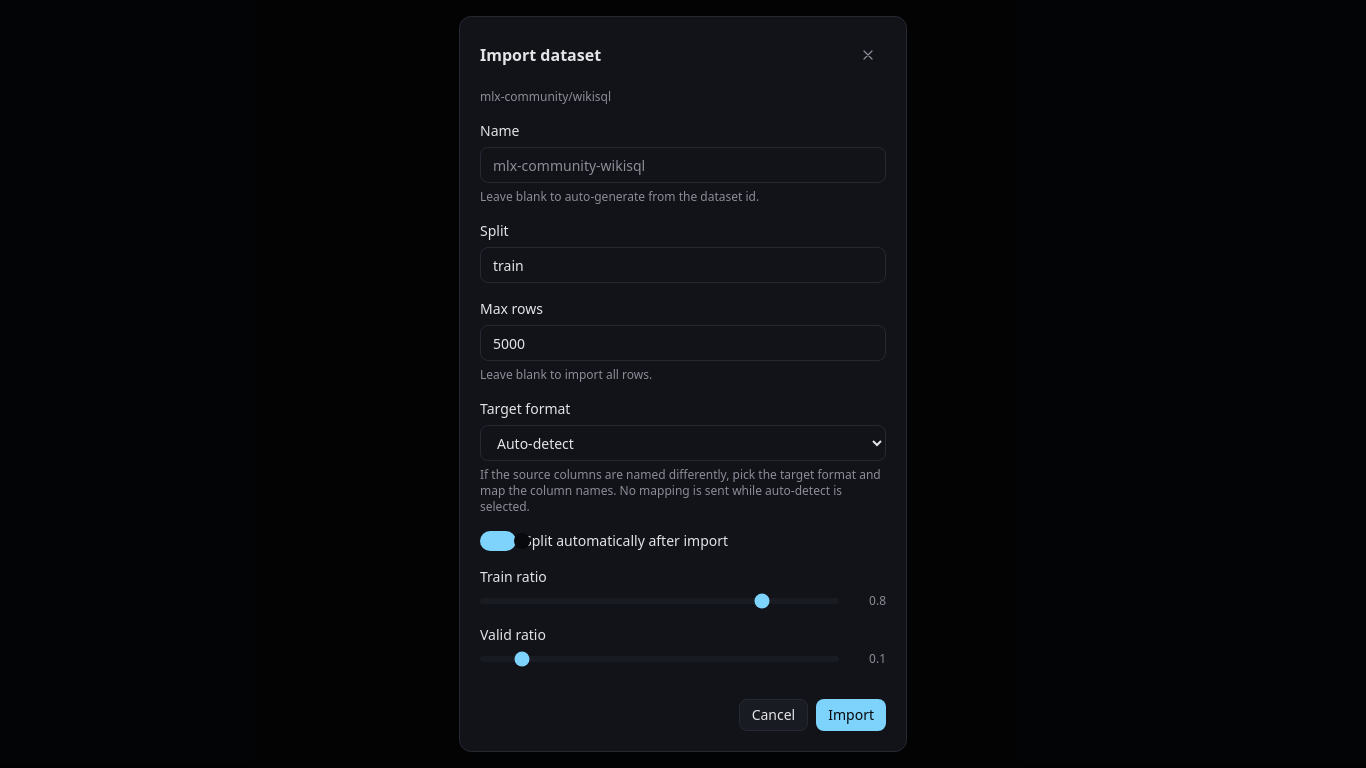
Test: ImportDatasetDialog column mapping › disables submit while a required column for the selected format is empty
Select "GRPO" in the dropdown labelled "Target format" at point(683, 443), box [480,425,886,461]
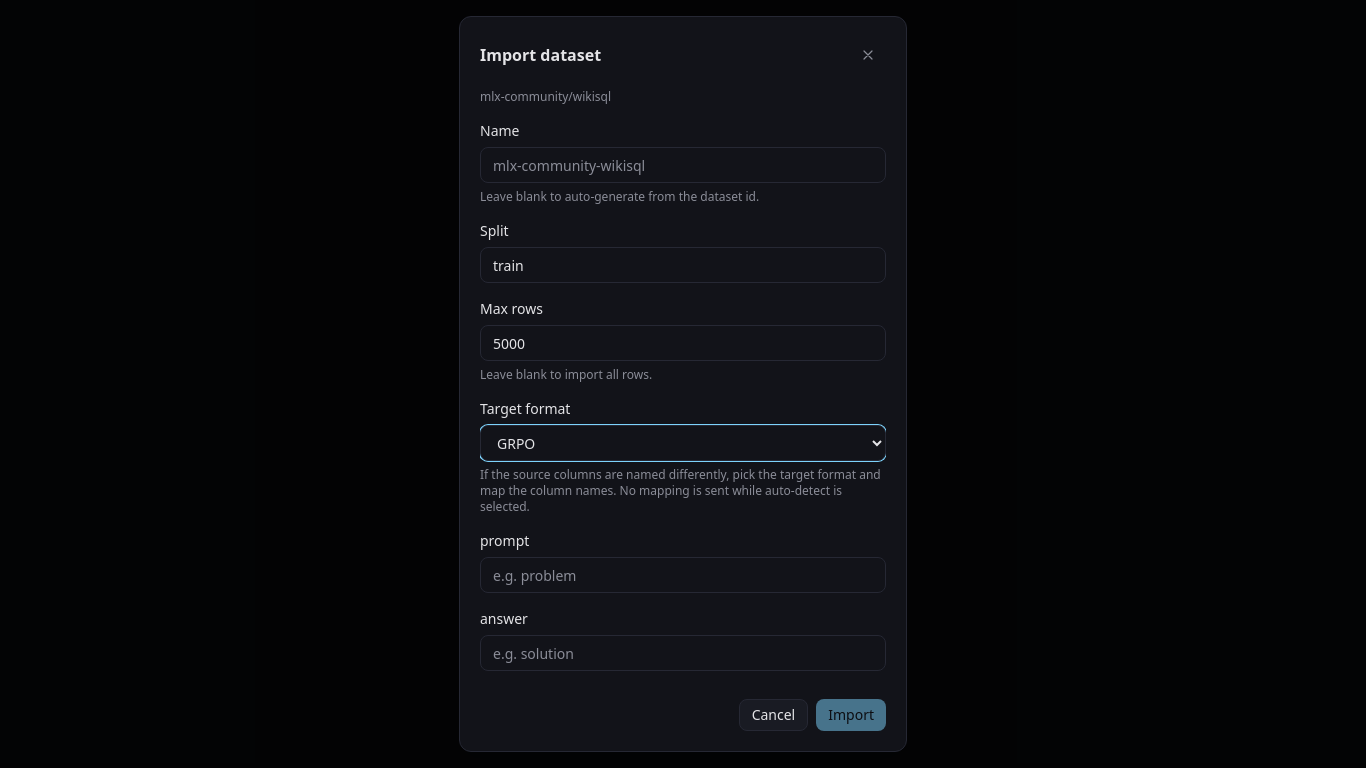
Type "problem" into the field labelled "prompt" at point(683, 575), box [480,557,886,593]
(page scrolled)
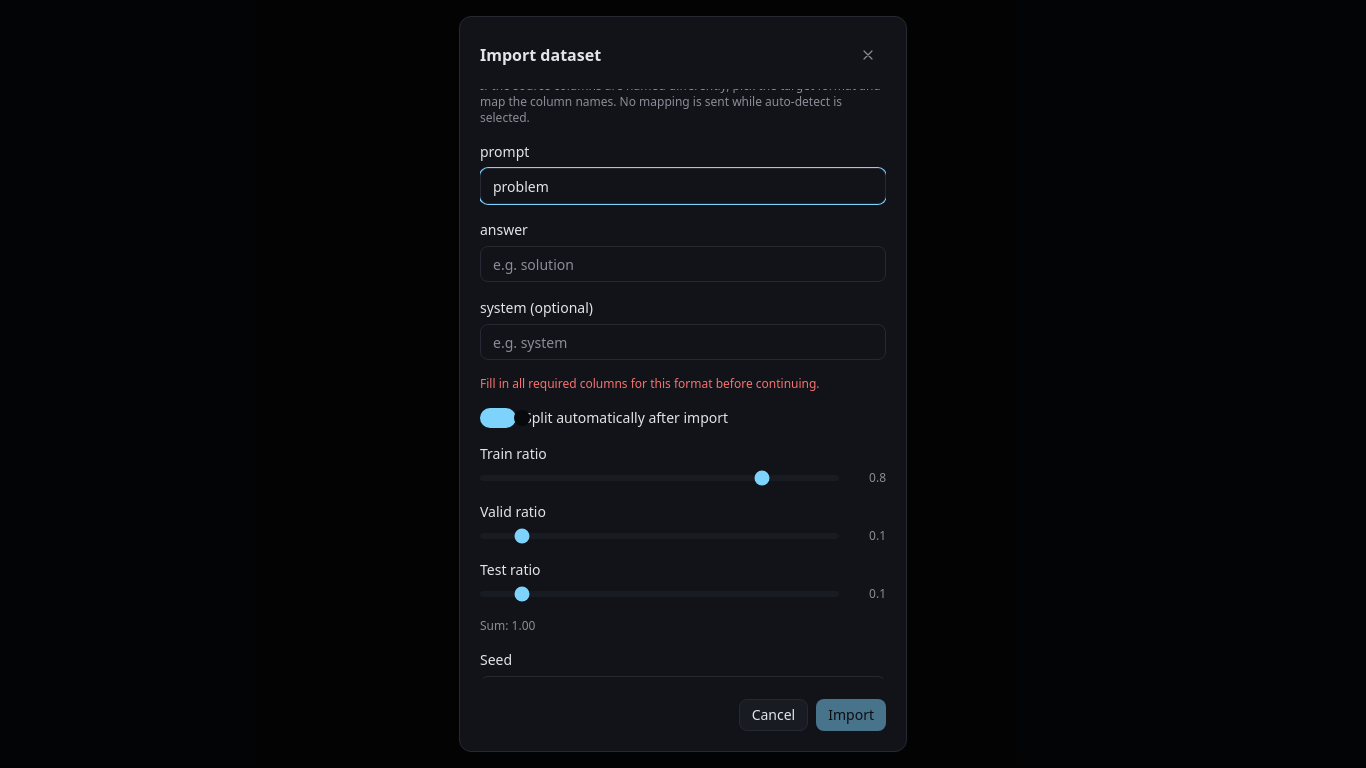
Result: the button "Import" is disabled at [816,699,886,731]
Result: the text "Fill in all required columns for this format before continuing." is shown at [480,375,820,392]
